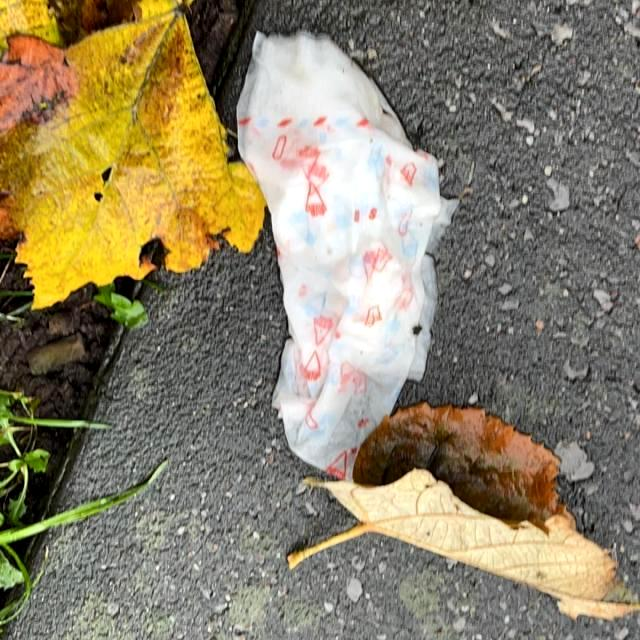Paper: (236, 27, 462, 483)
